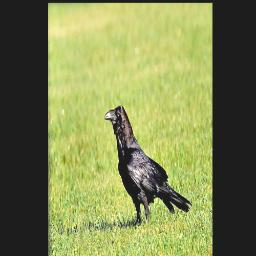Crow: (103, 103, 192, 228)
